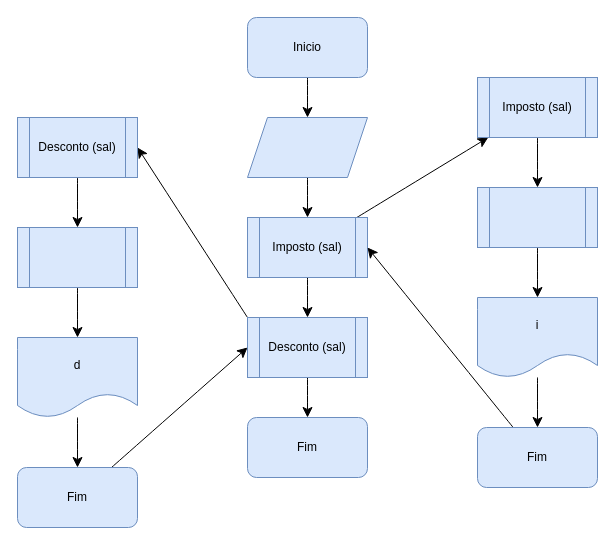
Some shapes in this 615 by 545 pixel diagram are drawn without their labels. The centre of each missing label's shape, as x and y in pixels:
d = sal *5%: pixel 77 257
i = sal * 7%: pixel 537 217
Sal: pixel 307 147
